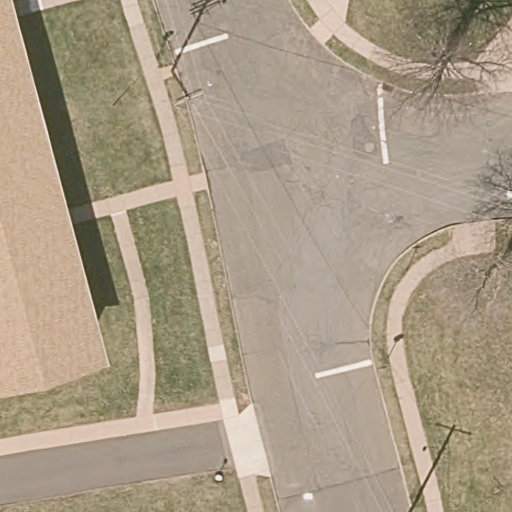DT: (168, 65, 203, 108)
